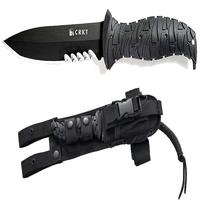knife: (3, 14, 192, 70)
